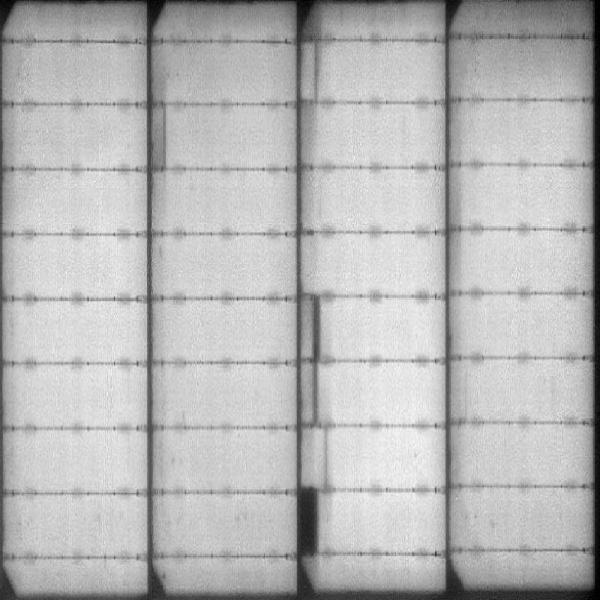black_border: (294, 289, 321, 428), (295, 483, 321, 556), (295, 34, 321, 106), (149, 94, 170, 175)
